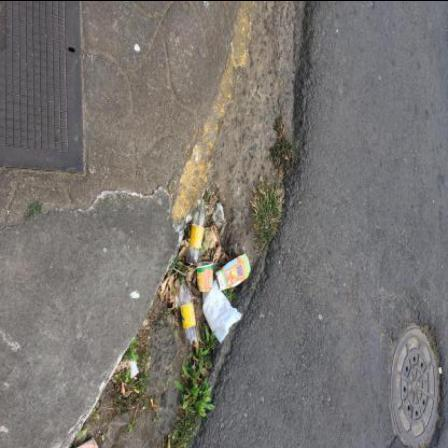Bottle: (180, 276, 200, 346), (187, 200, 207, 266)
Carton: (217, 253, 252, 291)
Cigarette: (151, 398, 155, 408), (134, 388, 140, 394), (135, 377, 140, 381)
Cup: (197, 262, 215, 292)
Plastic bag - wrapper: (204, 279, 244, 343), (212, 202, 225, 228)
Unlabeled litter: (131, 360, 140, 379)
